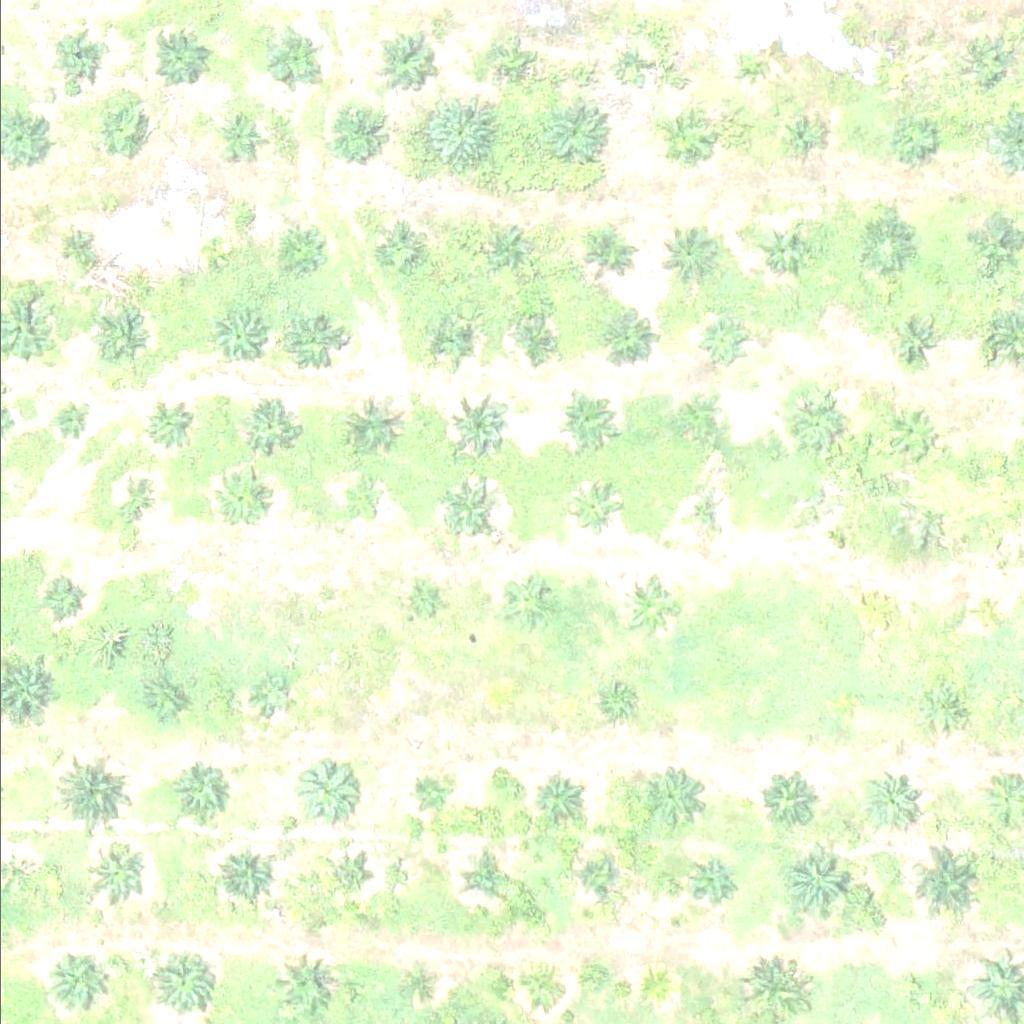Kelapa_Sawit: (900, 840, 988, 927), (536, 93, 612, 168), (318, 97, 394, 172), (422, 97, 498, 172), (50, 751, 125, 826), (782, 843, 857, 918), (298, 757, 361, 820), (376, 26, 439, 89), (494, 568, 557, 631), (280, 311, 343, 374), (859, 769, 922, 832), (742, 960, 805, 1023), (656, 227, 719, 290), (785, 385, 848, 448), (617, 575, 680, 638), (587, 306, 650, 369), (549, 390, 612, 452), (171, 758, 234, 820), (88, 303, 151, 365), (336, 391, 399, 453), (435, 478, 498, 540), (452, 394, 515, 456), (639, 763, 702, 825), (756, 767, 819, 829), (214, 841, 277, 903), (270, 951, 333, 1013), (150, 949, 213, 1011), (39, 953, 102, 1015), (85, 843, 148, 905), (882, 403, 945, 465), (202, 308, 264, 370), (568, 484, 619, 534), (530, 769, 581, 819), (460, 846, 511, 896), (860, 221, 911, 271), (962, 40, 1013, 90), (889, 116, 940, 166), (889, 314, 940, 364), (674, 488, 725, 538), (676, 400, 727, 450), (699, 318, 750, 368), (757, 226, 808, 276), (58, 34, 108, 84), (264, 37, 314, 87), (154, 33, 204, 83), (281, 223, 331, 273), (377, 222, 427, 272), (246, 404, 296, 454), (214, 474, 264, 524), (98, 100, 148, 150), (681, 850, 731, 900), (656, 115, 706, 165), (922, 683, 972, 733), (55, 227, 105, 277), (318, 847, 368, 897), (567, 851, 617, 901), (511, 316, 561, 366), (427, 318, 477, 368), (491, 224, 541, 274), (586, 229, 636, 279), (773, 111, 823, 161), (142, 399, 192, 449), (220, 115, 258, 153), (52, 402, 90, 440), (636, 966, 674, 1004), (514, 968, 552, 1006), (394, 967, 432, 1005), (964, 596, 1002, 634), (864, 592, 902, 630), (593, 683, 631, 721), (341, 479, 379, 517), (158, 577, 196, 615), (116, 483, 154, 521), (142, 682, 180, 719), (45, 582, 82, 620), (410, 774, 448, 811), (812, 499, 850, 536), (405, 582, 442, 619), (255, 677, 292, 714), (495, 55, 521, 80), (897, 976, 922, 1001), (741, 48, 766, 73), (613, 53, 638, 78), (205, 236, 230, 261)
